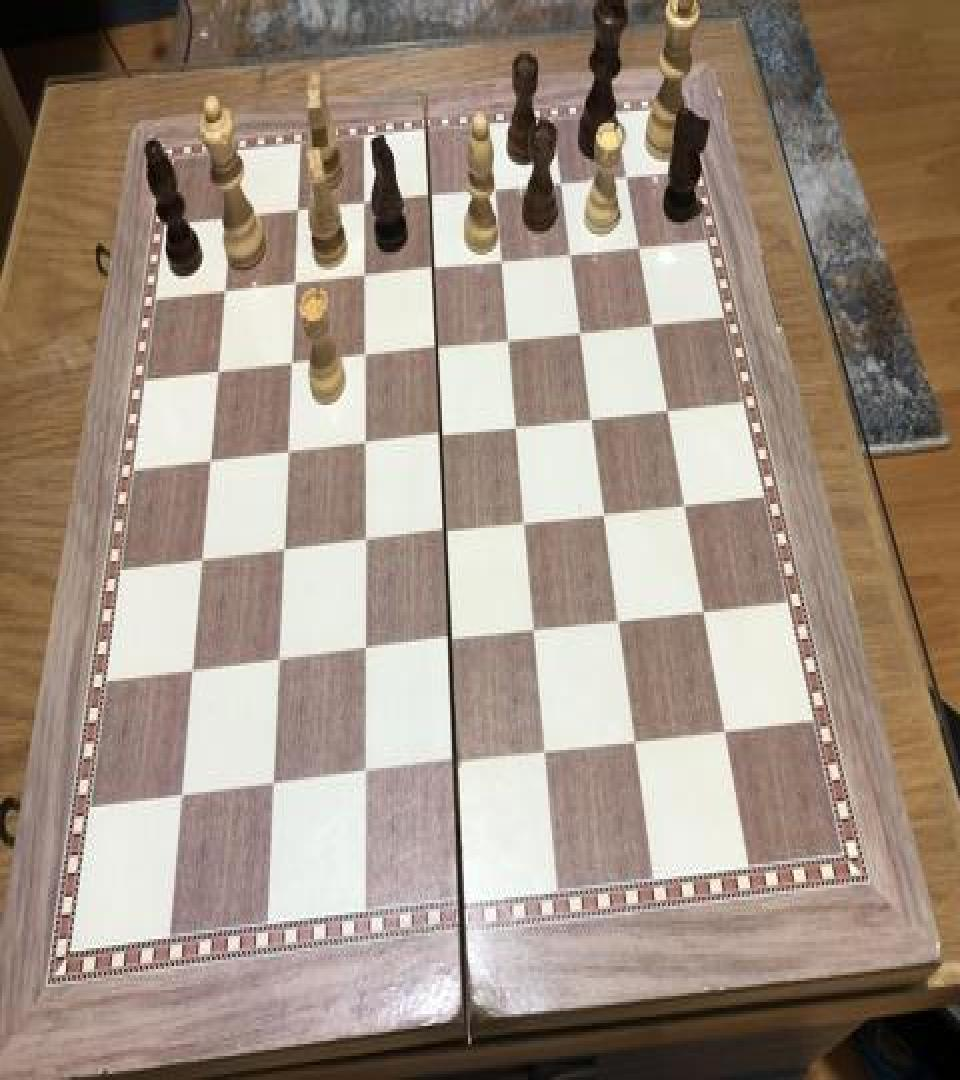xcorner: (528, 616, 552, 653), (443, 625, 467, 662), (183, 652, 207, 689), (619, 164, 643, 200), (553, 170, 577, 206), (487, 174, 511, 210), (421, 178, 445, 214), (354, 184, 378, 220), (286, 189, 310, 225), (218, 195, 242, 231), (631, 236, 655, 272), (563, 240, 587, 276), (494, 246, 518, 282), (425, 252, 449, 288), (355, 258, 379, 294), (284, 262, 308, 298), (212, 268, 236, 304), (645, 314, 669, 350), (573, 320, 597, 356), (501, 326, 525, 362), (429, 332, 453, 368), (355, 338, 379, 374), (281, 345, 305, 381), (206, 351, 230, 387), (660, 399, 684, 435), (585, 406, 609, 442), (433, 420, 457, 456), (356, 428, 380, 464), (278, 434, 302, 470), (199, 441, 223, 477), (677, 494, 701, 530), (598, 501, 622, 537), (518, 510, 542, 546), (438, 518, 462, 554), (357, 525, 381, 561), (275, 532, 299, 568), (192, 542, 216, 578), (695, 598, 719, 634), (612, 608, 636, 644), (358, 634, 382, 670), (271, 644, 295, 680), (716, 717, 740, 753), (628, 726, 652, 762), (539, 736, 563, 772), (450, 747, 474, 783), (359, 756, 383, 792), (267, 766, 291, 802), (174, 777, 198, 813), (509, 413, 533, 448)
